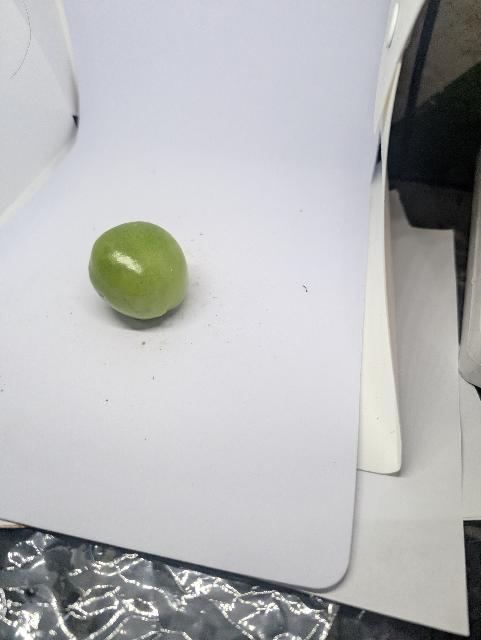green: (88, 220, 189, 322)
